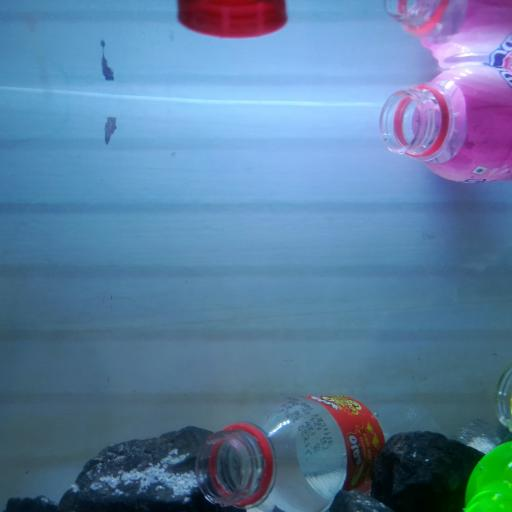bottle_cap: (178, 0, 288, 38)
plastic_bottle: (196, 392, 450, 512), (380, 61, 512, 184), (461, 436, 512, 511), (494, 360, 512, 428)
